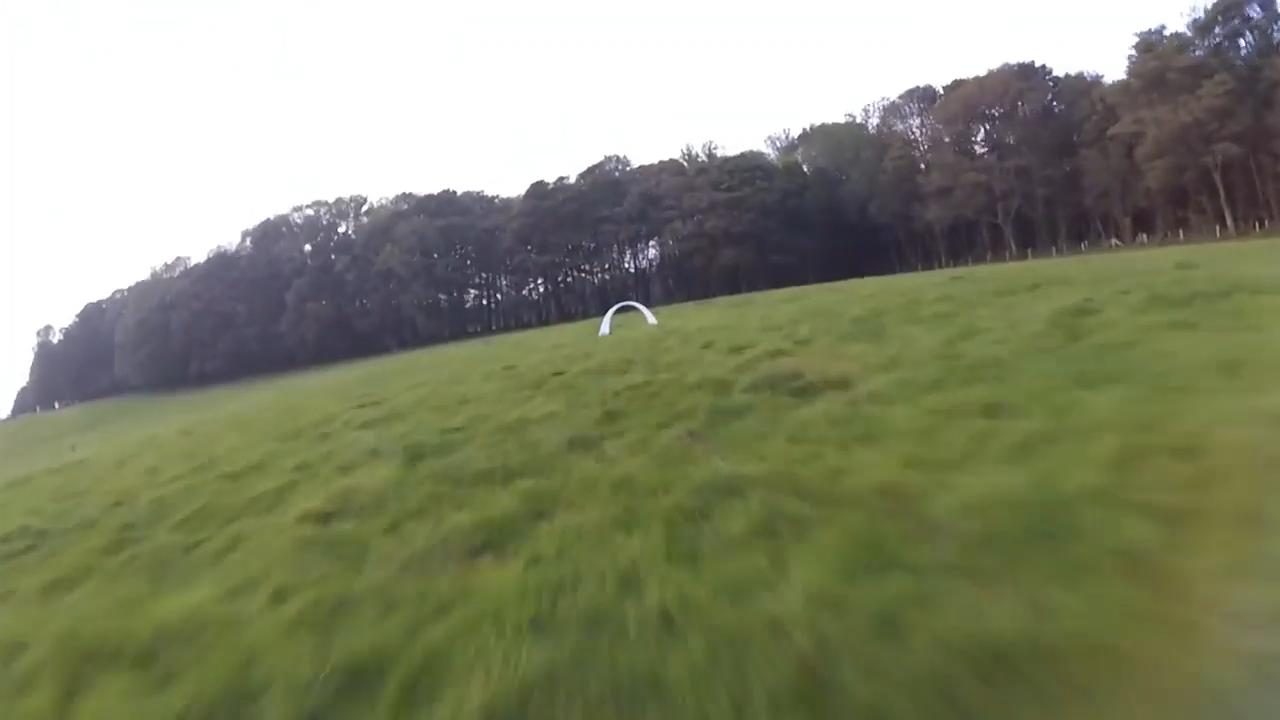gate: (598, 301, 656, 334)
